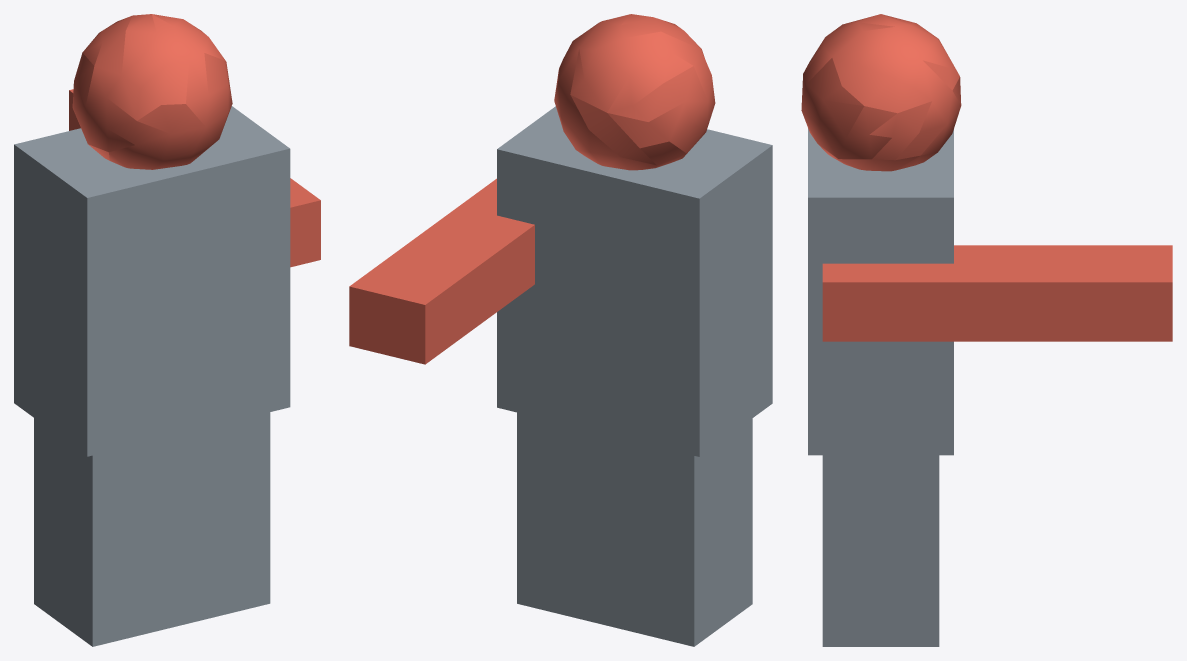
File: SU_RazryadTrooper_LOD2.glb
The picture shows the model from 3 angles, left to right: view 1: azimuth 30°, elevation 25°; view 2: azimuth 150°, elevation 25°; view 3: azimuth 270°, elevation 25°; orthographic projection.
Visible parts, largest first — view 1: Head; view 2: Head; view 3: Head.
Boxes of the visible parts, x1,y1,x2,y2 form: Head: (14, 14, 320, 646); Head: (349, 14, 772, 646); Head: (801, 14, 1172, 646).
Bounding box in the file's own units: 76 × 176 × 102.
